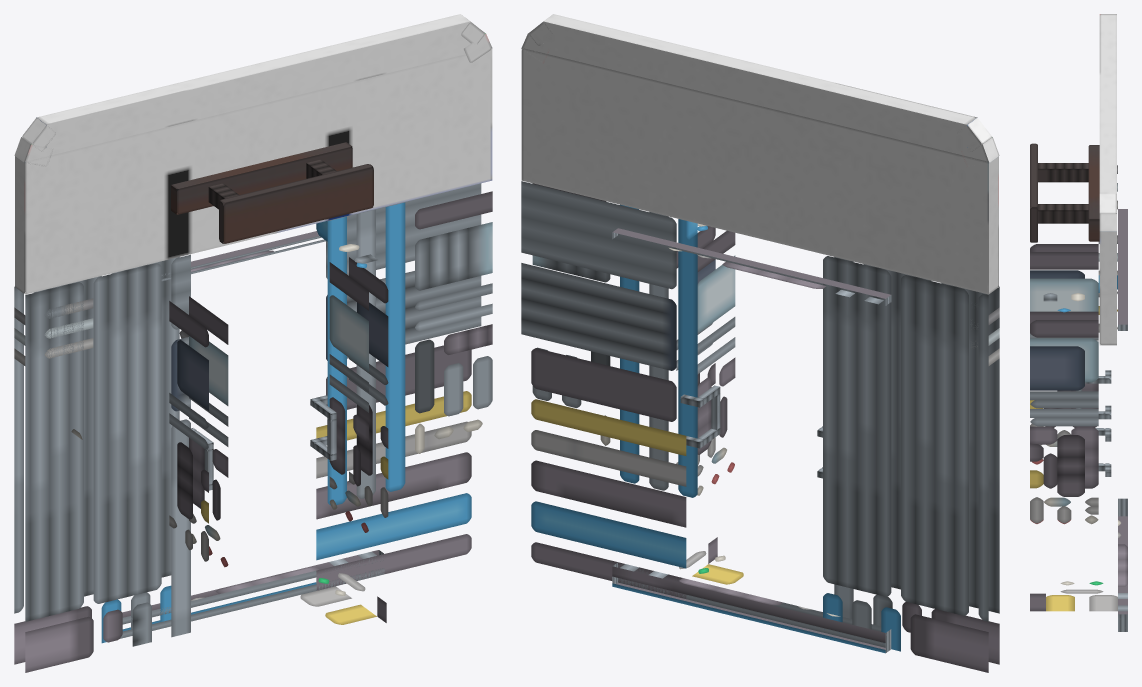
Rendered from end_face_original_25t_2.obj.
3 views of the same model, side by side, from view 1: azimuth 30°, elevation 25°; view 2: azimuth 150°, elevation 25°; view 3: azimuth 270°, elevation 25° (orthographic). The views are drawn at different scales.
Visible parts, largest first — view 1: cube; view 2: cube; view 3: cube.
Boxes of the visible parts, bbox=[...] form: cube: bbox=[14, 14, 492, 672]; cube: bbox=[521, 14, 999, 672]; cube: bbox=[1030, 14, 1127, 631].
Size of the model in its own units: 3 by 3.32 by 0.625.
